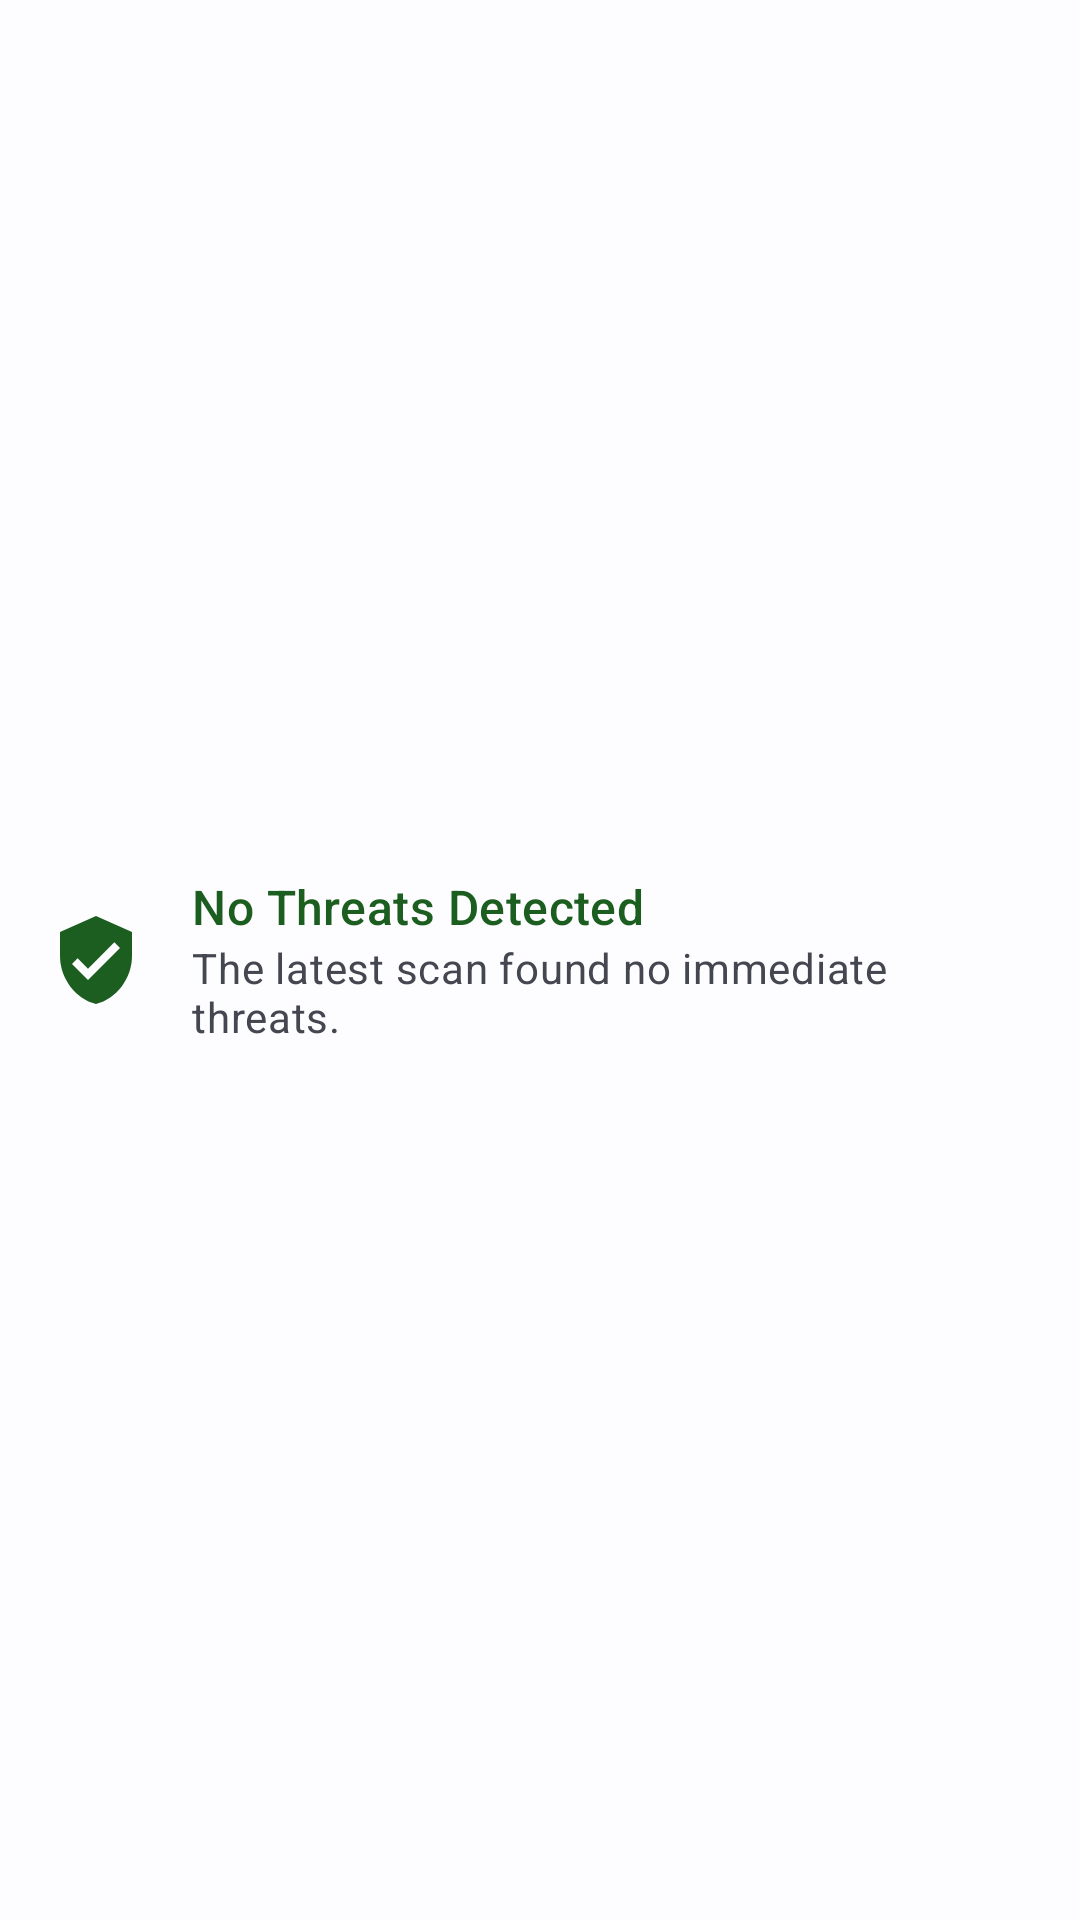

Where icons sit on this 1080x1920 app screen, as detection(x1, y1, x2, y2):
shield check: detection(60, 916, 132, 1004)
